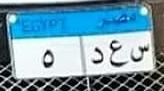5: (40, 49, 57, 70)
ain: (108, 39, 128, 70)
daal: (90, 45, 105, 69)
seen: (129, 44, 151, 63)
